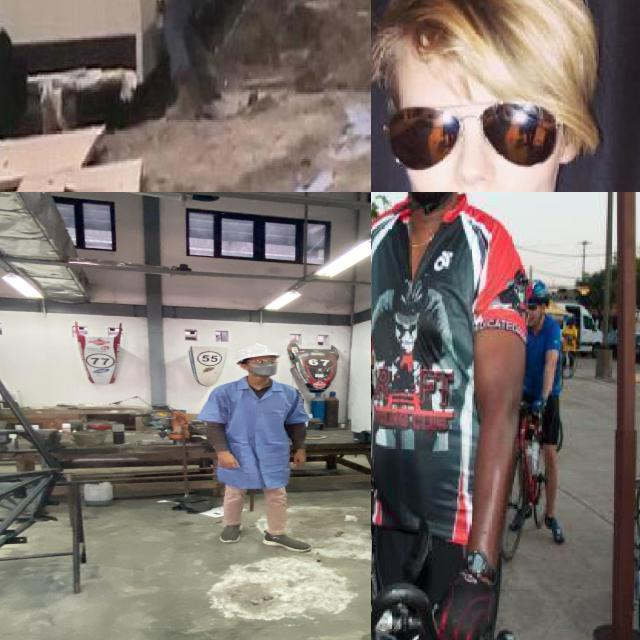face_mask: (247, 356, 281, 377)
face_nomask: (395, 96, 543, 192)
glasses: (379, 95, 579, 169), (240, 357, 280, 367)
hand_glove: (429, 565, 492, 640), (371, 456, 381, 514)
hand_noglove: (212, 448, 246, 472), (290, 449, 313, 467)
head_helmet: (233, 342, 279, 360)
head_nohelmet: (371, 0, 589, 78)
person: (371, 192, 528, 640), (371, 0, 640, 192), (197, 342, 327, 554), (136, 0, 237, 140)
shoes: (161, 71, 210, 123), (260, 528, 313, 555), (215, 519, 250, 544)
